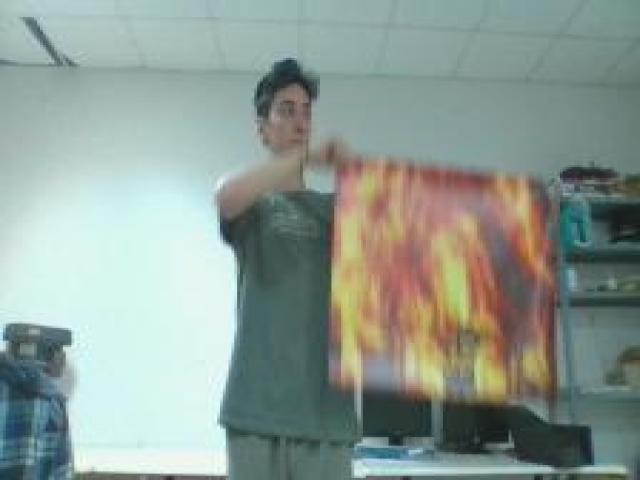fire-poster: (326, 150, 563, 418)
